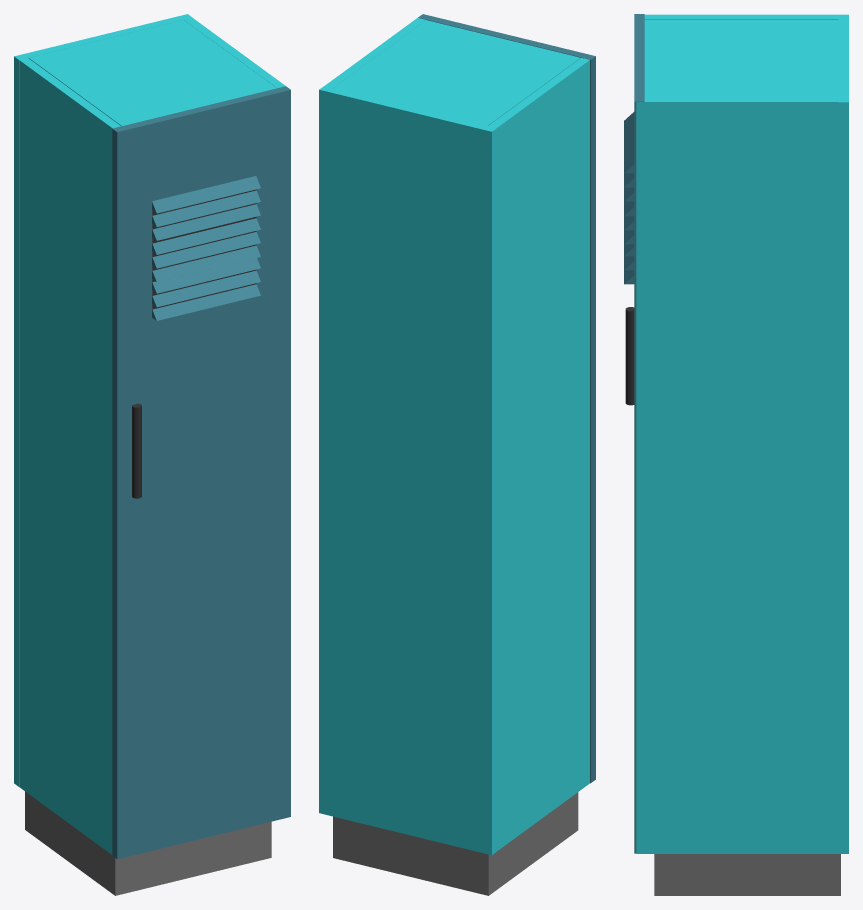
The model's file is locker.fbx.
3 renders of one model, left to right at view 1: azimuth 30°, elevation 25°; view 2: azimuth 150°, elevation 25°; view 3: azimuth 270°, elevation 25°, orthographic. The views are drawn at different scales.
Parts seen in each view (by area): view 1: Cube; view 2: Cube; view 3: Cube.
Part boxes in pixels (bbox=[...]): Cube: bbox=[14, 14, 290, 895]; Cube: bbox=[319, 14, 595, 895]; Cube: bbox=[624, 14, 848, 895].
Bounding box in the file's own units: 201 × 850 × 217.
